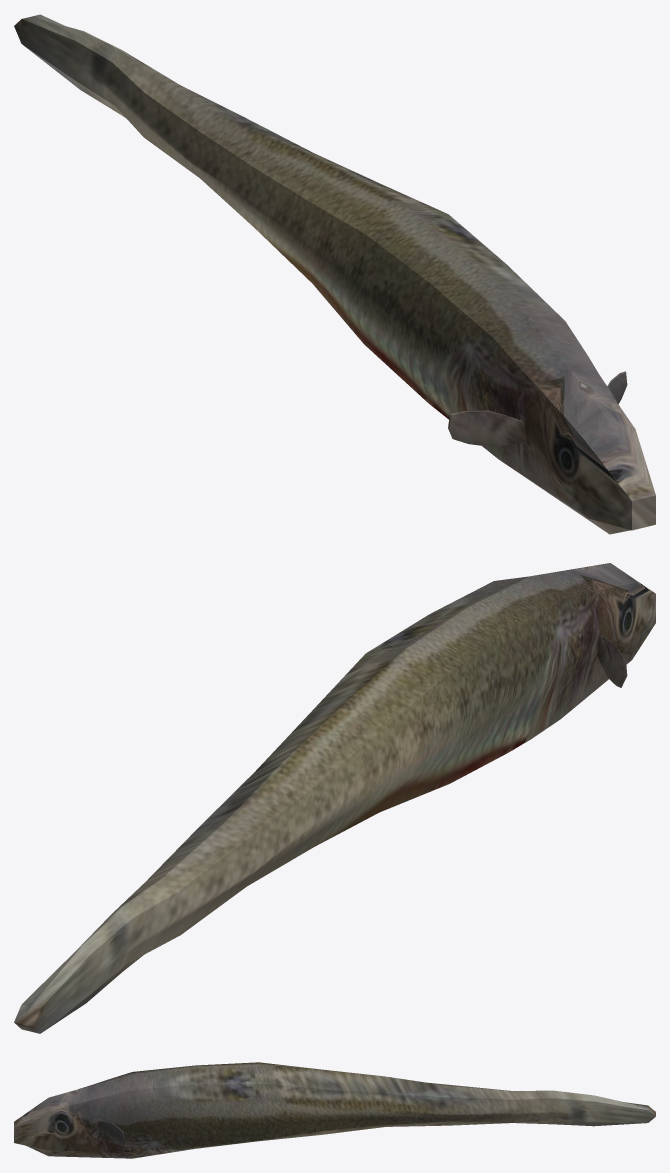
The model's file is hazekuchi_model.fbx.
3 renders of one model, top to bottom at view 1: azimuth 30°, elevation 25°; view 2: azimuth 150°, elevation 25°; view 3: azimuth 270°, elevation 25°, orthographic. The views are drawn at different scales.
Visible parts, largest first — view 1: pCube1; view 2: pCube1; view 3: pCube1.
Boxes of the visible parts, <box> form: pCube1: <box>14,14,655,534</box>; pCube1: <box>14,563,655,1033</box>; pCube1: <box>14,1062,655,1158</box>.
Size of the model in its own units: 1.1 by 1.06 by 6.61.
